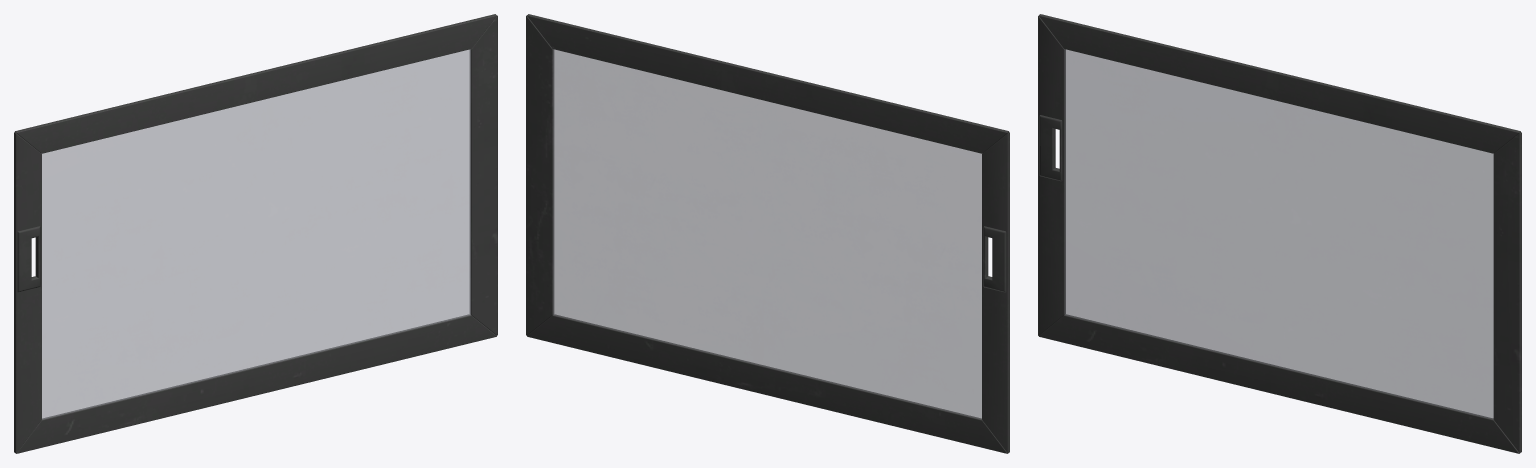
File: SM_Gun_Display_02e.glb
3 views of the same model, side by side, from view 1: azimuth 30°, elevation 25°; view 2: azimuth 150°, elevation 25°; view 3: azimuth 330°, elevation 25° (orthographic).
Visible parts, largest first — view 1: SM_Gun_Display_02e; view 2: SM_Gun_Display_02e; view 3: SM_Gun_Display_02e.
Boxes of the visible parts, box(x1,y1,x2,y2) form: SM_Gun_Display_02e: box(14, 14, 497, 453); SM_Gun_Display_02e: box(526, 14, 1009, 453); SM_Gun_Display_02e: box(1038, 14, 1521, 453).
Size of the model in its own units: 1.33 by 0.8477 by 0.0164.
2 materials, 2 textured.
